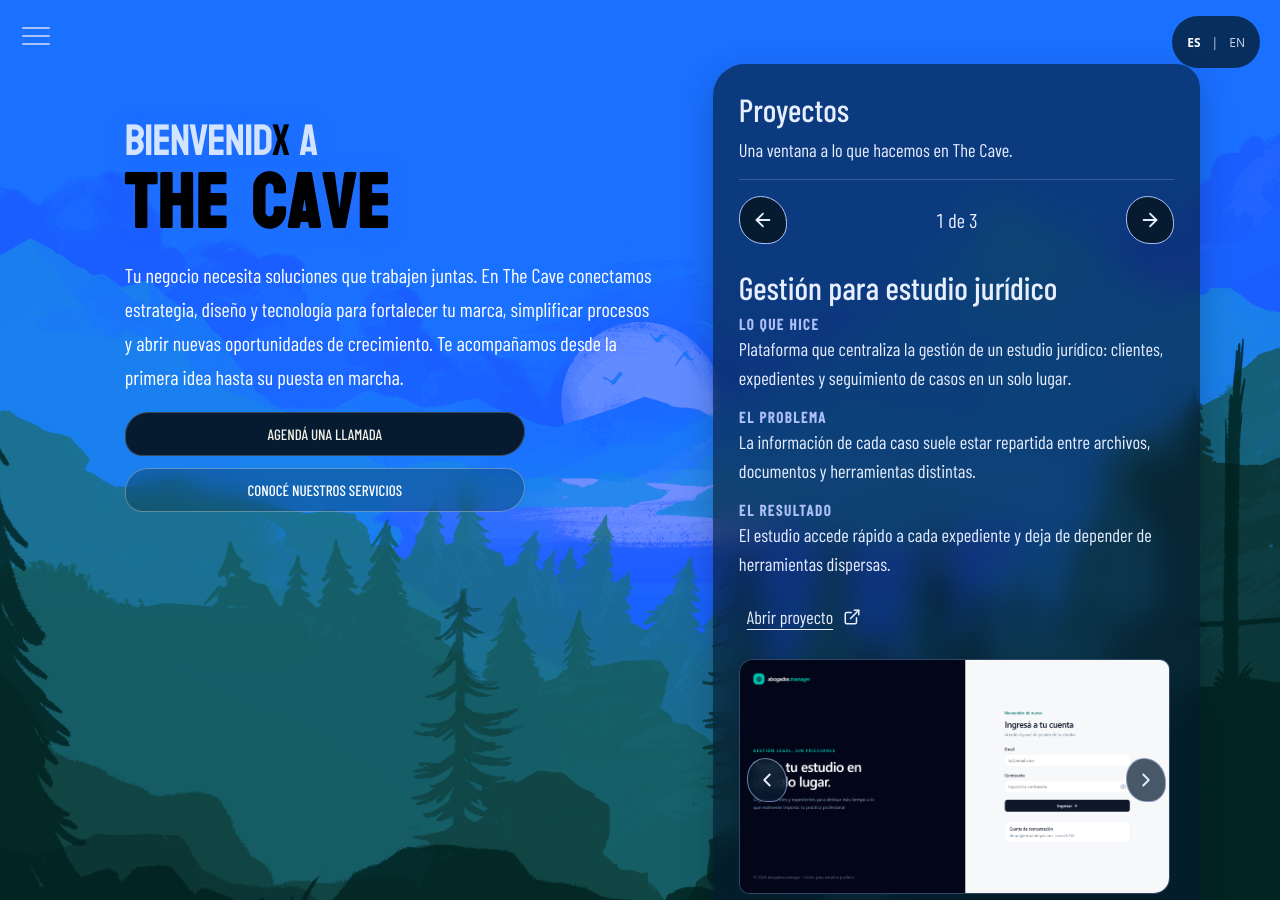
navega a Proyectos, enfoca la sección y respeta movimiento reducido
Click the button named "Menú" at (36,36), box left=10, top=10, right=62, bottom=62
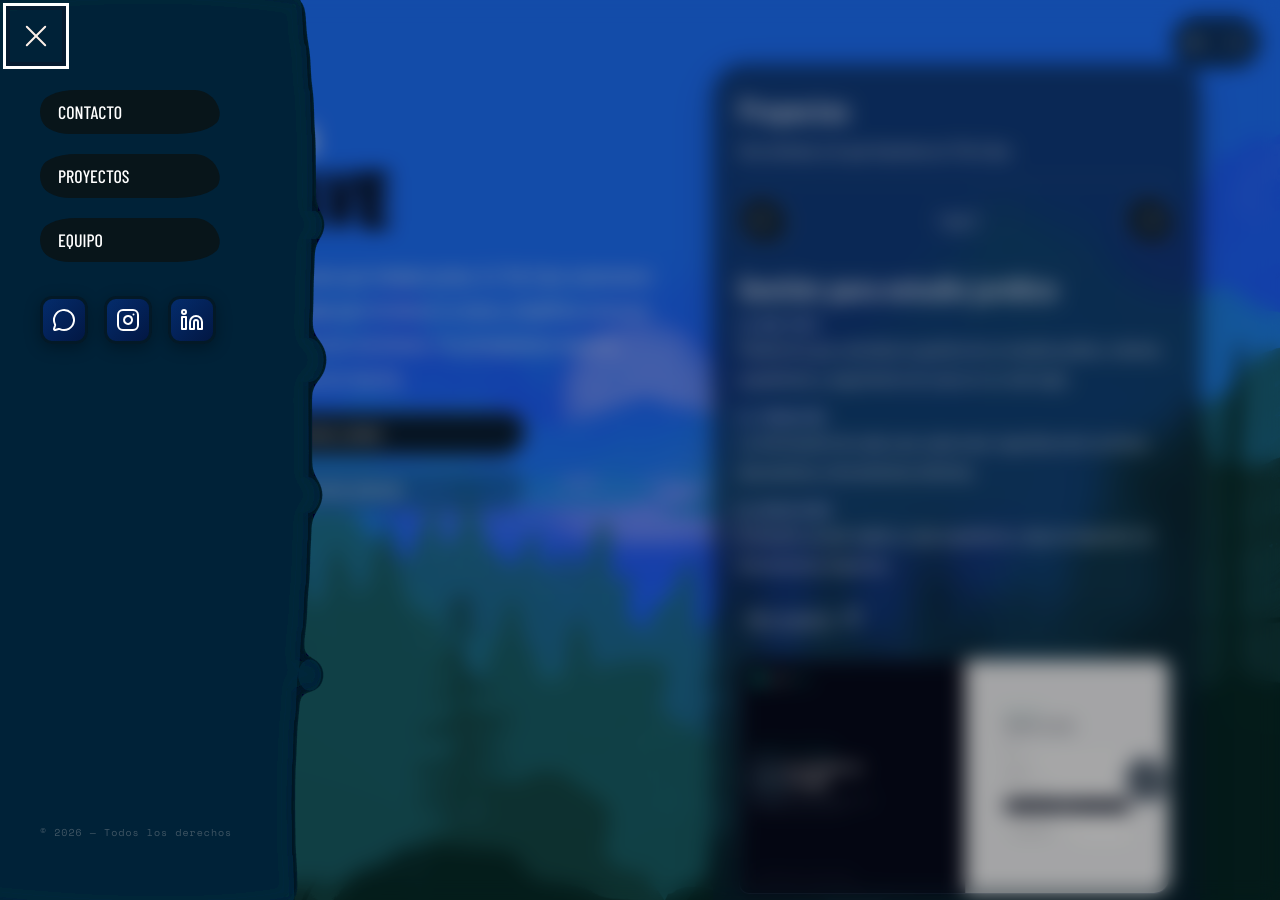
Click the button "Proyectos" at (130,176), box left=40, top=154, right=220, bottom=198
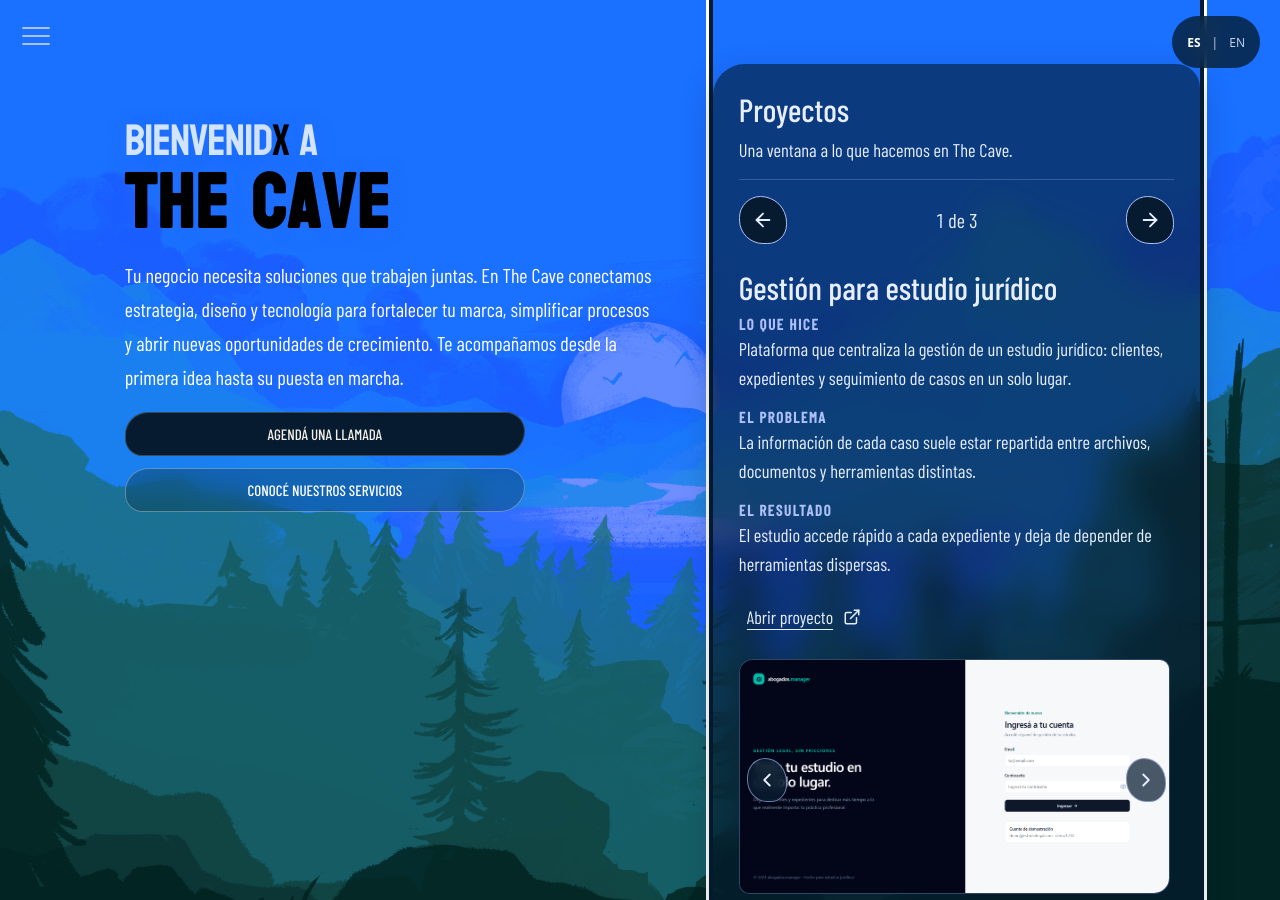
Check: the navigation bar "Navegación" is gone
